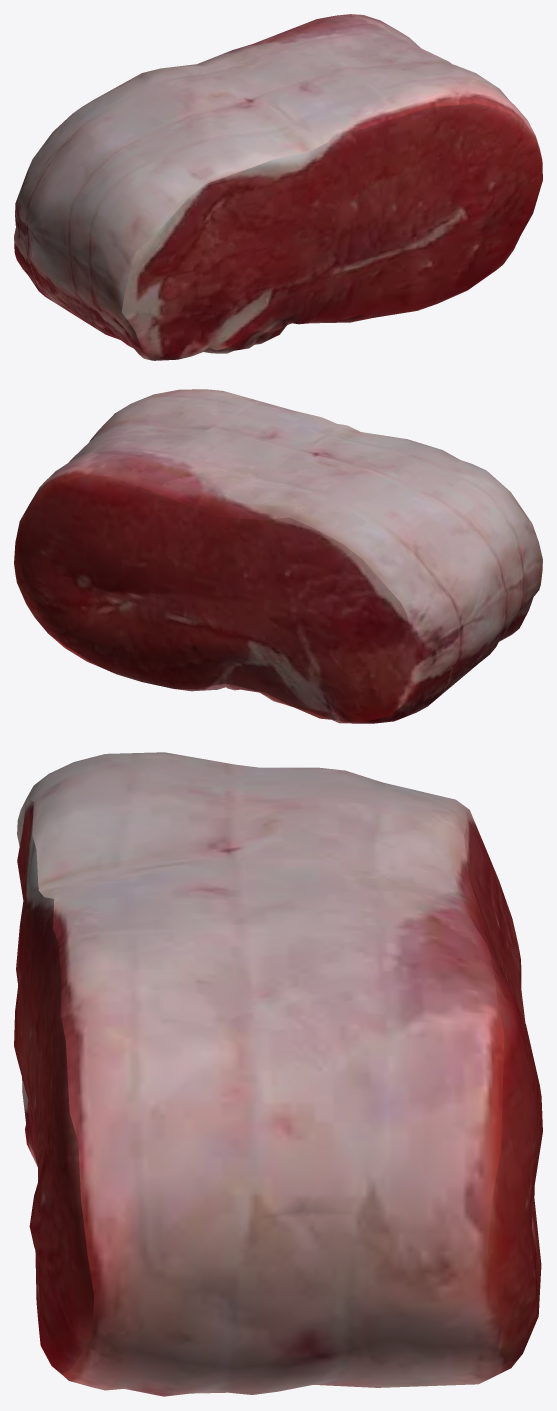
File: bigcatmeat_cooked.worldmodel.glb
The picture shows the model from 3 angles, top to bottom: view 1: azimuth 30°, elevation 25°; view 2: azimuth 150°, elevation 25°; view 3: azimuth 270°, elevation 25°; orthographic projection. The views are drawn at different scales.
Parts seen in each view (by area): view 1: big_cat_meat_LOD0; view 2: big_cat_meat_LOD0; view 3: big_cat_meat_LOD0.
Part boxes in pixels (bbox=[...]): big_cat_meat_LOD0: bbox=[14, 14, 542, 360]; big_cat_meat_LOD0: bbox=[14, 389, 542, 723]; big_cat_meat_LOD0: bbox=[14, 752, 542, 1396].
Size of the model in its own units: 0.2906 by 0.1407 by 0.16.
Materials: 1 (1 with a texture image).
